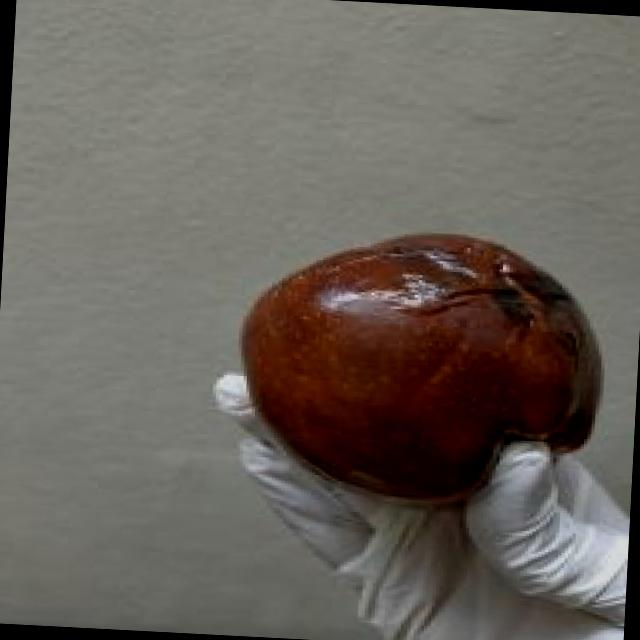Rotten_Apple: (206, 220, 620, 518)
